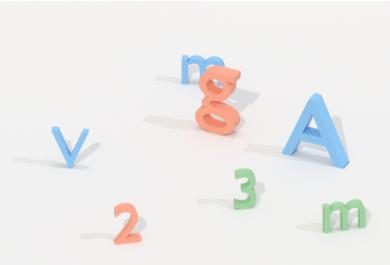2: (109, 199, 145, 249)
3: (229, 163, 260, 214)
A: (277, 86, 354, 173)
V: (48, 123, 95, 174)
g: (194, 64, 243, 137)
m: (316, 195, 370, 238), (177, 51, 227, 90)
